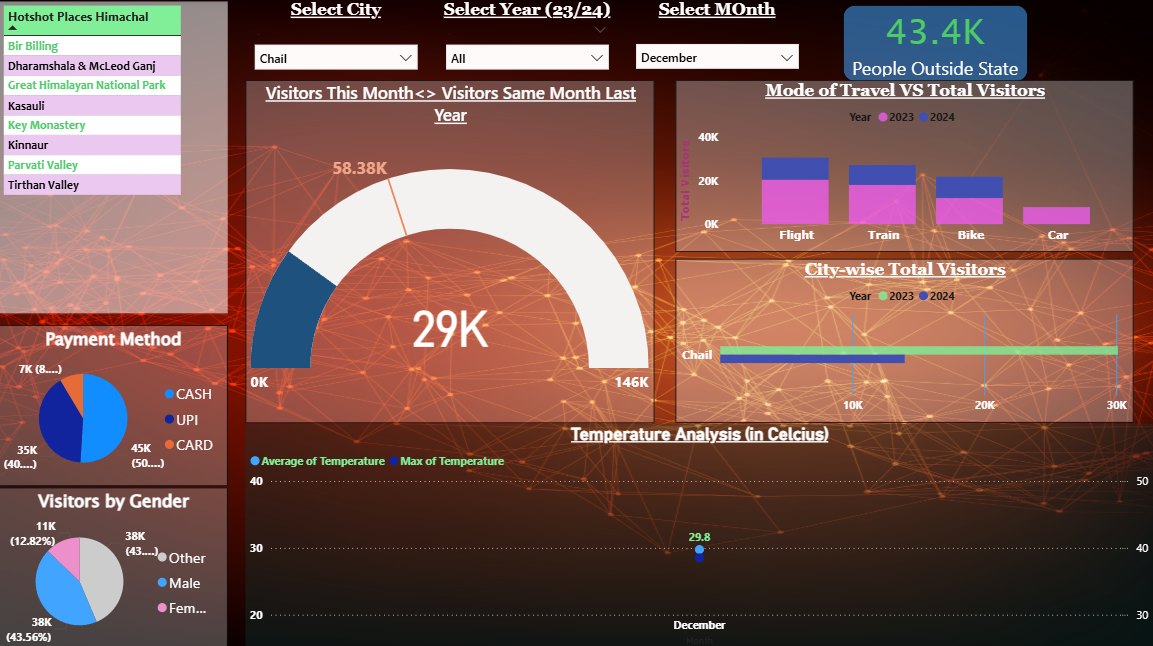

What the dashboard file says about the page in this screenshot:
{"tool":"powerbi","page":{"name":"Page 1","canvas":[1280,720],"ordinal":0},"visuals":[{"type":"card","fields":{"Values":["Sum(Table1.Outside State Visitors)"]},"box":[936.2,5,205,85],"z":0},{"type":"clusteredBarChart","title":"City-wise Total Visitors","fields":{"Category":["Table1.City"],"Y":["Sum(Table1.Count of People Within State)"],"Series":["Table1.Year"]},"box":[750,287.1,507.1,181.4],"z":1000},{"type":"columnChart","title":"Mode of Travel VS Total Visitors","fields":{"Category":["Table1.Mode of Travel"],"Y":["Sum(Table1.Total Visitors)"],"Series":["Table1.Year"]},"box":[750,88.6,507.1,190],"z":2000},{"type":"slicer","title":"Select City","fields":{"Values":["Table1.City"]},"box":[274.6,0.6,200,89],"z":3000},{"type":"slicer","title":"Select Year (23/24)","fields":{"Values":["Table1.Year"]},"box":[485.6,0.6,200,89],"z":4000},{"type":"gauge","title":"Visitors This Month<> Visitors Same Month Last Year","fields":{"Y":["Table1.Visitors This Month (From Slicer)"],"TargetValue":["Table1.Visitors Same Month Last Year (From Slicer)"],"MaxValue":["Table1.Max Gauge Visitors"]},"box":[274.3,88.6,452.9,380],"z":5000},{"type":"slicer","title":"Select MOnth","fields":{"Values":["Table1.Month"]},"box":[695.6,0.6,200,89],"z":6000},{"type":"pieChart","title":"Visitors by Gender","fields":{"Y":["Sum(Table1.Total Visitors)"],"Category":["Table1.Mode of Payment"]},"box":[0,360,254.3,178.6],"z":7000},{"type":"pieChart","title":"Visitors by Gender","fields":{"Category":["Table1.Gender"],"Y":["Sum(Table1.Total Visitors)"]},"box":[0,540,254.3,180],"z":8000},{"type":"lineChart","title":"Temperature Analysis (in Celcius)","fields":{"Category":["Table1.Month"],"Y":["Avg(Table1.Temperature)"],"Y2":["Max(Table1.Temperature)1"]},"box":[274.3,468.6,1005.7,251.4],"z":9000},{"type":"tableEx","fields":{"Values":["Table1.Hotshot Places"]},"box":[0,1.4,254.3,345.7],"z":10000}]}

Visuals, with their boxes in screenshot pixels (x1, y1, x2, y2), scaled from the page's 1280x720 canvas onto the 1153x646 screenshot:
card - Sum(Table1.Outside State Visitors): select_region(843, 4, 1028, 81)
"City-wise Total Visitors" clusteredBarChart: select_region(676, 258, 1132, 420)
"Mode of Travel VS Total Visitors" columnChart: select_region(676, 79, 1132, 250)
"Select City" slicer: select_region(247, 1, 428, 80)
"Select Year (23/24)" slicer: select_region(437, 1, 618, 80)
"Visitors This Month<> Visitors Same Month Last Year" gauge: select_region(247, 79, 655, 420)
"Select MOnth" slicer: select_region(627, 1, 807, 80)
"Visitors by Gender" pieChart: select_region(0, 323, 229, 483)
"Visitors by Gender" pieChart: select_region(0, 484, 229, 645)
"Temperature Analysis (in Celcius)" lineChart: select_region(247, 420, 1152, 645)
tableEx - Table1.Hotshot Places: select_region(0, 1, 229, 311)
